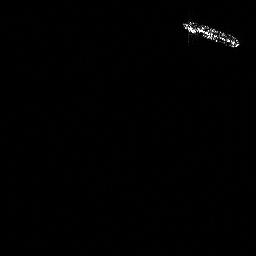ship: (179, 17, 241, 50)
